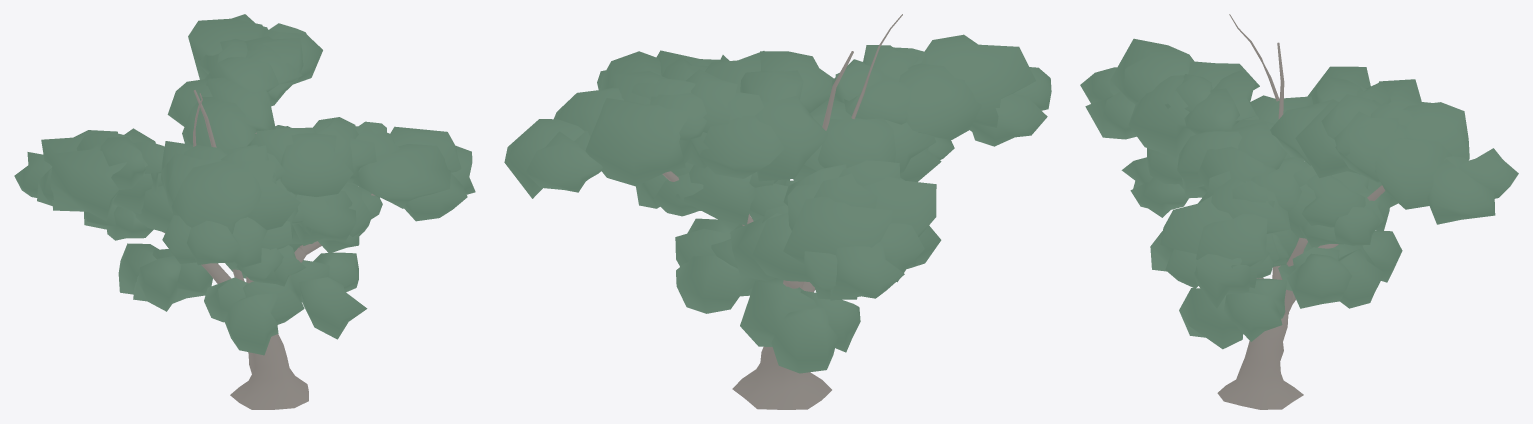
Rendered from Blender_AlligatorJuniper_1.glb.
The picture shows the model from 3 angles, left to right: view 1: azimuth 30°, elevation 25°; view 2: azimuth 150°, elevation 25°; view 3: azimuth 270°, elevation 25°; orthographic projection. The views are drawn at different scales.
Parts seen in each view (by area): view 1: Blender_AlligatorJuniper_1; view 2: Blender_AlligatorJuniper_1; view 3: Blender_AlligatorJuniper_1.
Boxes of the visible parts, bbox=[...] form: Blender_AlligatorJuniper_1: bbox=[14, 14, 475, 409]; Blender_AlligatorJuniper_1: bbox=[504, 14, 1051, 409]; Blender_AlligatorJuniper_1: bbox=[1080, 14, 1518, 409].
Size of the model in its own units: 10.82 by 9.62 by 11.32.
